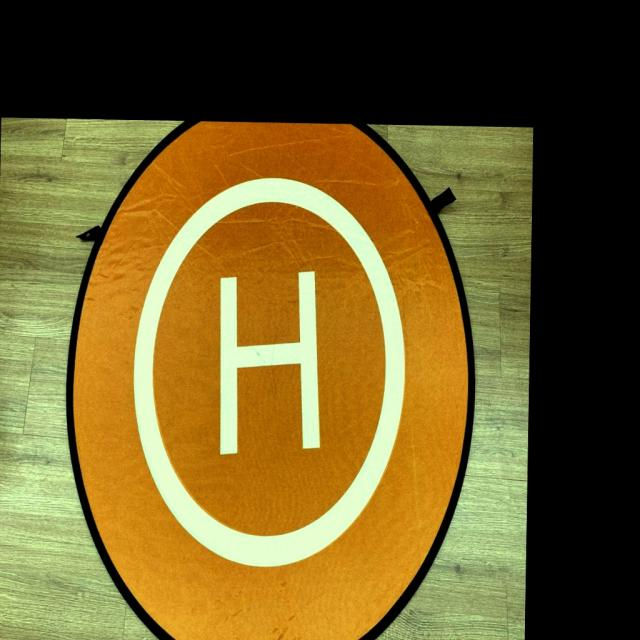helipad: (128, 172, 408, 570)
